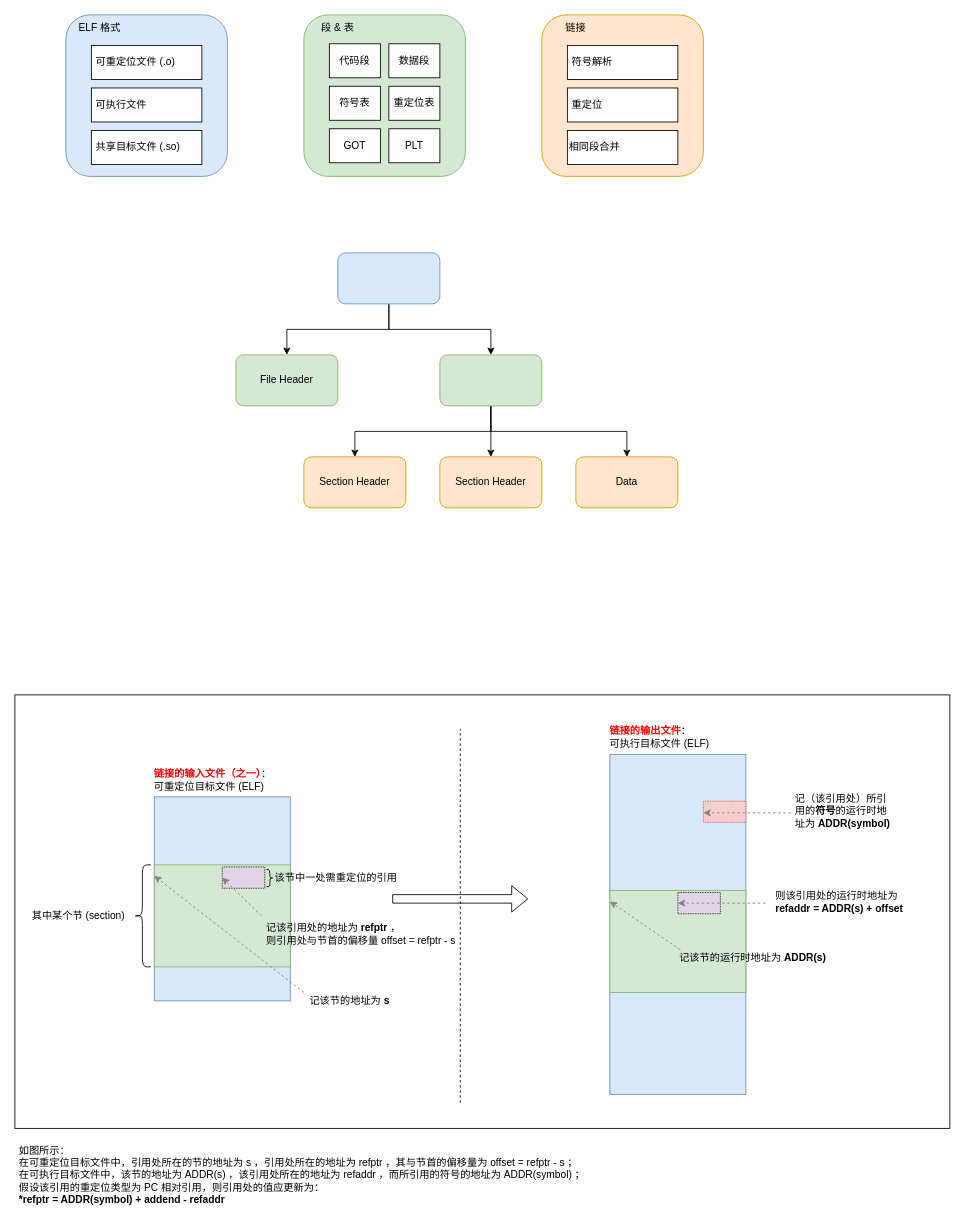
The diagram is 965 pixels wide and 1228 high, and some of its shapes have lost their labels. The box of each missing label's shape, as (x1, y1, x2, y2) in pixels:
ELF File: (337, 252, 440, 304)
File Data: (439, 354, 542, 406)
